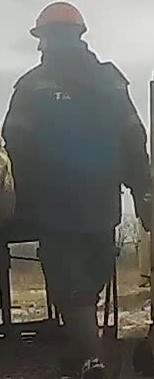gloves: (129, 186, 154, 234)
helmet: (28, 1, 88, 38)
vest: (15, 61, 129, 227)
